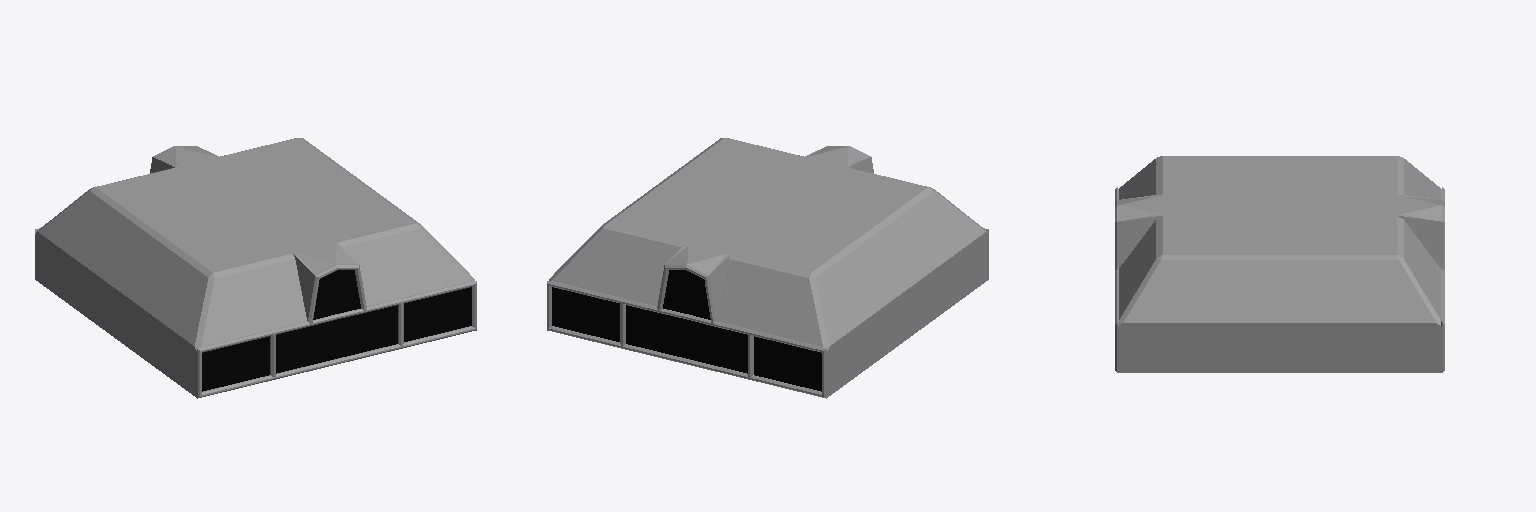
Rendered from scoreboard.obj.
The picture shows the model from 3 angles: view 1: azimuth 30°, elevation 25°; view 2: azimuth 150°, elevation 25°; view 3: azimuth 270°, elevation 25°; orthographic projection.
Visible parts, largest first — view 1: Cube; view 2: Cube; view 3: Cube.
Boxes of the visible parts, x1,y1,x2,y2 form: Cube: [35, 138, 476, 398]; Cube: [547, 138, 988, 398]; Cube: [1115, 156, 1444, 372].
Bounding box in the file's own units: 2 × 0.6937 × 2.04.